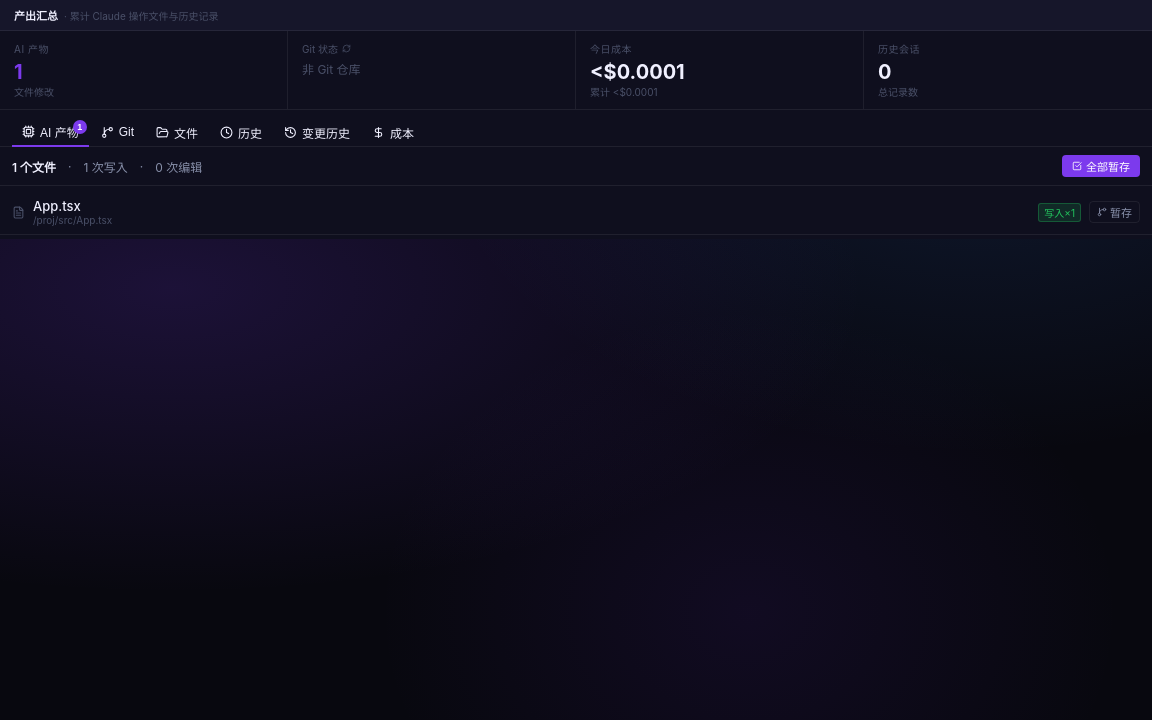
Test: ChangeHistoryPanel - 有记录 › 单条 Write 消息显示"1 批次"
Click the button "变更历史".
click(317, 132)  # box [274,118,360,146]
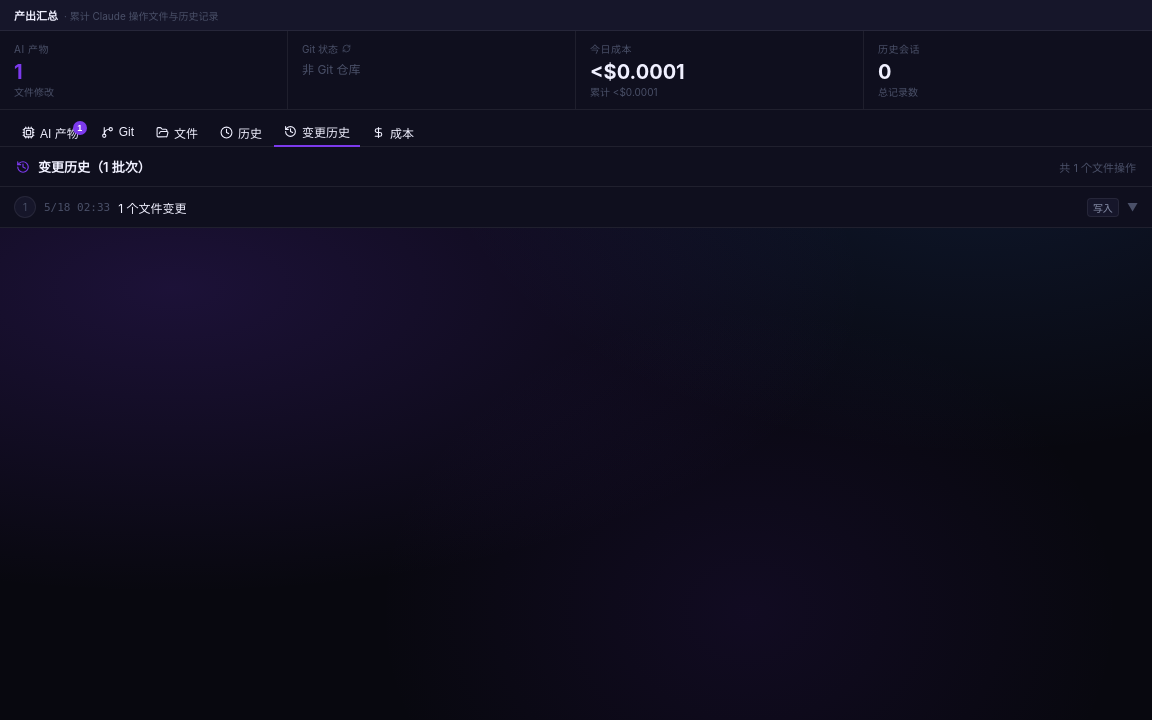
Result: the text "变更历史（1 批次）" is shown at [38,157,151,176]
